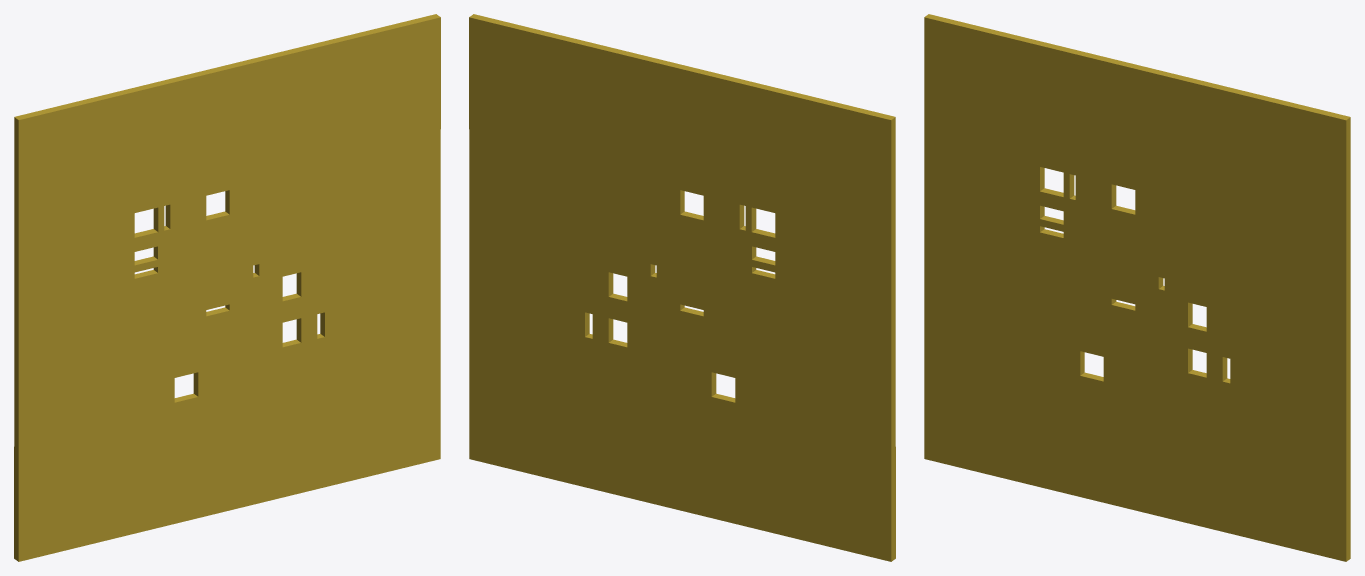
File: rot_wall_boogie.gltf
3 renders of one model, left to right at view 1: azimuth 30°, elevation 25°; view 2: azimuth 150°, elevation 25°; view 3: azimuth 330°, elevation 25°, orthographic.
Visible parts, largest first — view 1: rot.wall.boogie; view 2: rot.wall.boogie; view 3: rot.wall.boogie.
Boxes of the visible parts, x1=… form: rot.wall.boogie: x1=14, y1=14, x2=440, y2=561; rot.wall.boogie: x1=469, y1=14, x2=895, y2=561; rot.wall.boogie: x1=924, y1=14, x2=1350, y2=561.
Size of the model in its own units: 53.72 by 53.72 by 1.
